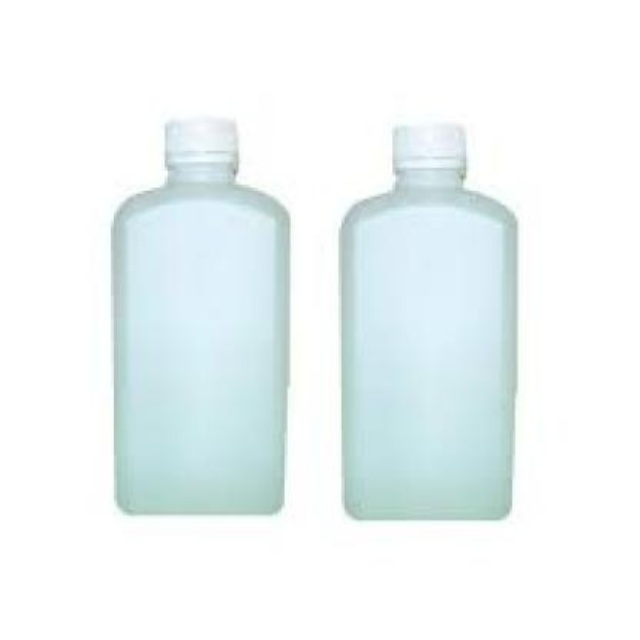trash: (112, 117, 288, 512), (342, 123, 515, 517)
